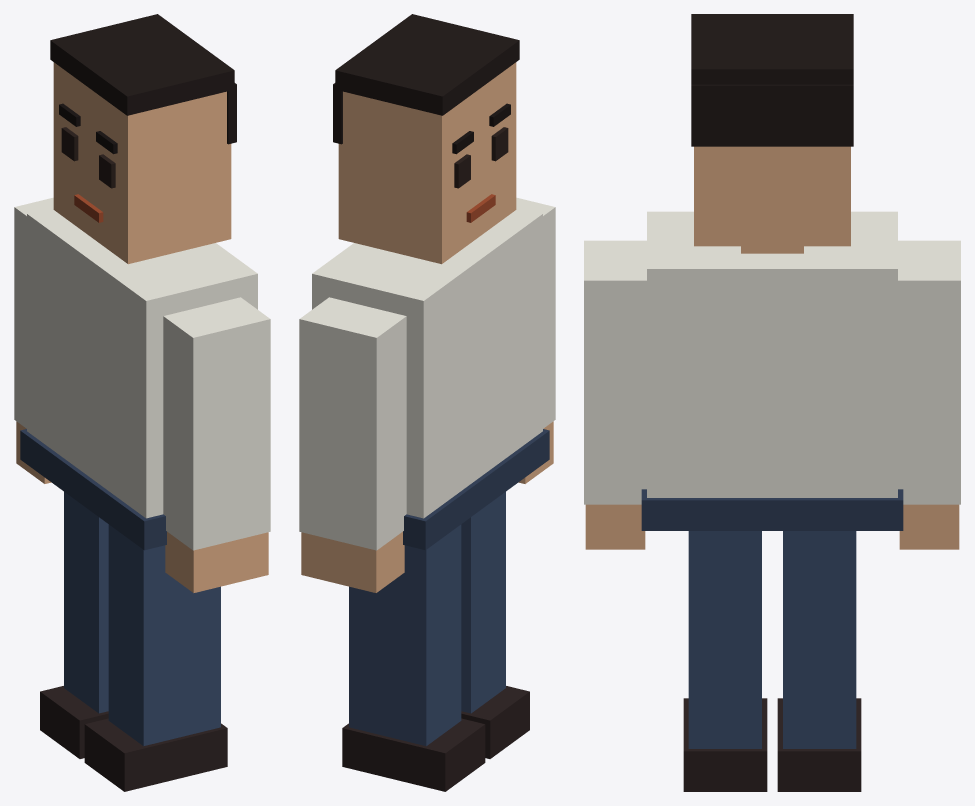
Rendered from nguyens_dad.glb.
The picture shows the model from 3 angles, left to right: view 1: azimuth 30°, elevation 25°; view 2: azimuth 150°, elevation 25°; view 3: azimuth 270°, elevation 25°; orthographic projection. The views are drawn at different scales.
Parts seen in each view (by area): view 1: Box9, Box3, Box12, Box1, Box18, Box5, Box2, Box10, Box4, Box7, Box6, Box19 (+2 smaller); view 2: Box9, Box7, Box12, Box5, Box18, Box1, Box6, Box10, Box8, Box3, Box2, Box19 (+2 smaller); view 3: Box9, Box3, Box7, Box1, Box5, Box12, Box18, Box19, Box10, Box2, Box6, Box4 (+1 smaller).
Part boxes in pixels (left/top/right/bottom): Box9: left=27, top=207, right=257, bottom=518; Box3: left=163, top=297, right=270, bottom=550; Box12: left=53, top=62, right=231, bottom=264; Box1: left=108, top=524, right=220, bottom=746; Box18: left=50, top=14, right=234, bottom=115; Box5: left=64, top=492, right=108, bottom=713; Box2: left=84, top=718, right=227, bottom=791; Box10: left=20, top=429, right=166, bottom=550; Box4: left=165, top=531, right=268, bottom=592; Box7: left=14, top=197, right=53, bottom=428; Box6: left=40, top=686, right=108, bottom=758; Box19: left=227, top=83, right=236, bottom=144; Box9: left=312, top=207, right=542, bottom=518; Box7: left=299, top=297, right=406, bottom=550; Box12: left=338, top=62, right=516, bottom=264; Box5: left=349, top=524, right=461, bottom=746; Box18: left=335, top=14, right=519, bottom=115; Box1: left=461, top=492, right=505, bottom=713; Box6: left=342, top=718, right=485, bottom=791; Box10: left=403, top=429, right=549, bottom=550; Box8: left=301, top=531, right=404, bottom=592; Box3: left=516, top=197, right=555, bottom=428; Box2: left=461, top=686, right=529, bottom=758; Box19: left=333, top=83, right=342, bottom=144; Box9: left=647, top=211, right=897, bottom=497; Box3: left=584, top=240, right=646, bottom=504; Box7: left=898, top=240, right=960, bottom=504; Box1: left=688, top=531, right=761, bottom=748; Box5: left=783, top=531, right=856, bottom=748; Box12: left=694, top=146, right=850, bottom=246; Box18: left=691, top=14, right=853, bottom=84; Box19: left=691, top=84, right=853, bottom=146; Box10: left=641, top=489, right=903, bottom=530; Box2: left=683, top=698, right=767, bottom=791; Box6: left=777, top=698, right=861, bottom=791; Box4: left=585, top=504, right=645, bottom=549.
Size of the model in its own units: 0.3175 by 1.74 by 0.8165.
